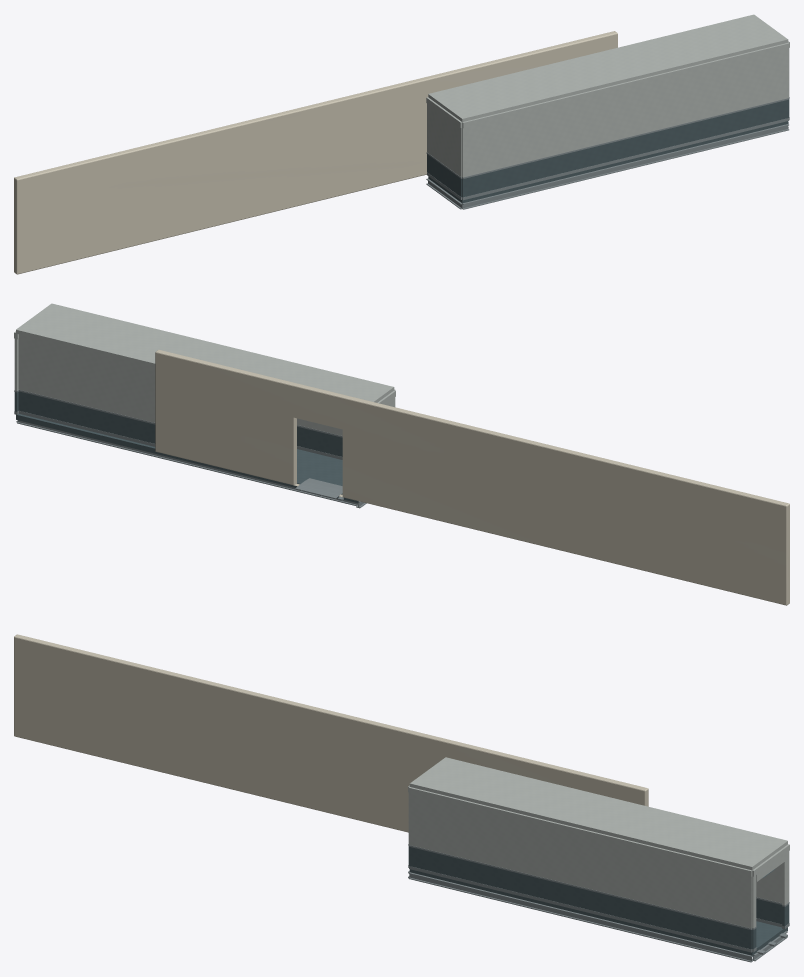
File: PERFORMERS_SERVICE_RECEIVER_r001.glb
The picture shows the model from 3 angles, top to bottom: view 1: azimuth 30°, elevation 25°; view 2: azimuth 150°, elevation 25°; view 3: azimuth 330°, elevation 25°; orthographic projection. The views are drawn at different scales.
Visible parts, largest first — view 1: PCR_SUCCESSOR_D11_directory_09__outer_return_5, PCR_BATCH_001, PCR_BATCH_000, PCR_BATCH_002; view 2: PCR_SUCCESSOR_D11_directory_09__outer_return_5, PCR_BATCH_001, PCR_BATCH_000, PCR_BATCH_002; view 3: PCR_SUCCESSOR_D11_directory_09__outer_return_5, PCR_BATCH_001, PCR_BATCH_000, PCR_BATCH_002.
Part boxes in pixels (left/top/right/bottom): PCR_SUCCESSOR_D11_directory_09__outer_return_5: left=14, top=31, right=617, bottom=274; PCR_BATCH_001: left=426, top=14, right=789, bottom=177; PCR_BATCH_000: left=427, top=99, right=789, bottom=203; PCR_BATCH_002: left=426, top=97, right=789, bottom=209; PCR_SUCCESSOR_D11_directory_09__outer_return_5: left=155, top=349, right=789, bottom=605; PCR_BATCH_001: left=14, top=303, right=395, bottom=435; PCR_BATCH_000: left=14, top=391, right=358, bottom=502; PCR_BATCH_002: left=14, top=390, right=366, bottom=508; PCR_SUCCESSOR_D11_directory_09__outer_return_5: left=14, top=634, right=648, bottom=832; PCR_BATCH_001: left=408, top=757, right=789, bottom=928; PCR_BATCH_000: left=408, top=846, right=789, bottom=956; PCR_BATCH_002: left=408, top=844, right=789, bottom=962.
Size of the model in its own units: 38.3 by 5.16 by 3.64.
6 materials, 5 textured.
